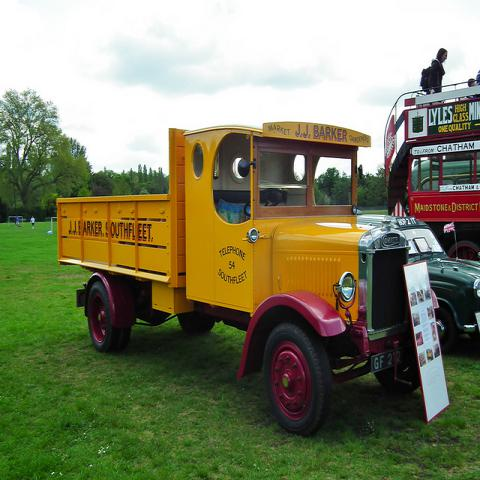bus: (383, 78, 479, 263)
car: (356, 209, 480, 354)
truck: (56, 124, 421, 438)
